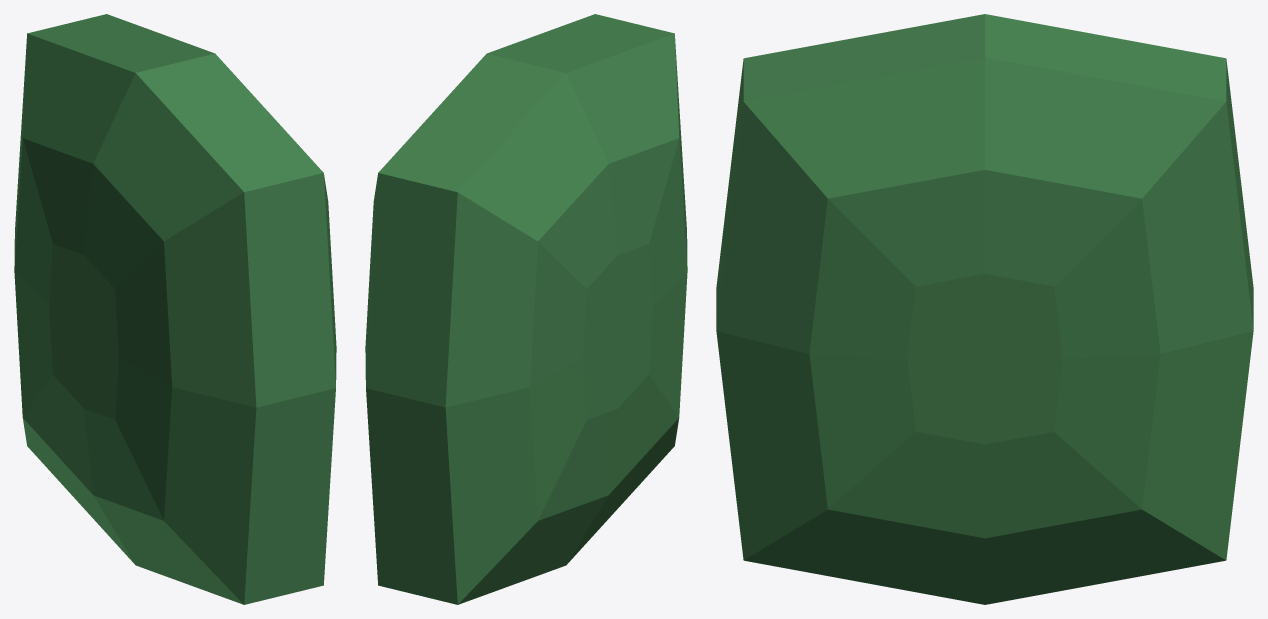
File: SM_Tapis lazuli.glb
3 views of the same model, side by side, from view 1: azimuth 30°, elevation 25°; view 2: azimuth 150°, elevation 25°; view 3: azimuth 270°, elevation 25° (orthographic). The views are drawn at different scales.
Parts seen in each view (by area): view 1: SM_Tapis lazuli; view 2: SM_Tapis lazuli; view 3: SM_Tapis lazuli.
Part boxes in pixels (x1=…): SM_Tapis lazuli: x1=14, y1=14, x2=336, y2=604; SM_Tapis lazuli: x1=365, y1=14, x2=687, y2=604; SM_Tapis lazuli: x1=716, y1=14, x2=1253, y2=604.
Bounding box in the file's own units: 0.07 × 0.18 × 0.16.
1 material, 1 textured.
